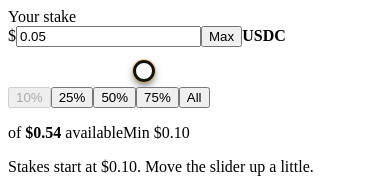
Test: amount controls › explains a stake under the market minimum and disables shares that would land there
expect the message with class "nl-field-error" reads "Stakes start at $0.10. Move the slider up a little.": met, box [8, 158, 314, 175]
What coordinates should you click on to do the following:
click the button "25%"
I would click on:
 (72, 98)
Its box is [51, 87, 93, 108].
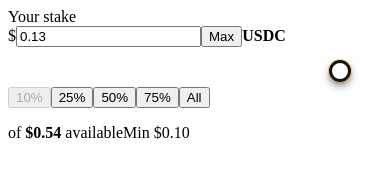
expect the number field with id "round-amount" holds "0.13": met, box [16, 26, 201, 47]
expect the message with class "nl-field-error" is gone: met
